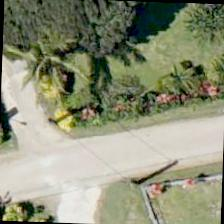Kelapa_Sawit: (0, 16, 88, 109)
